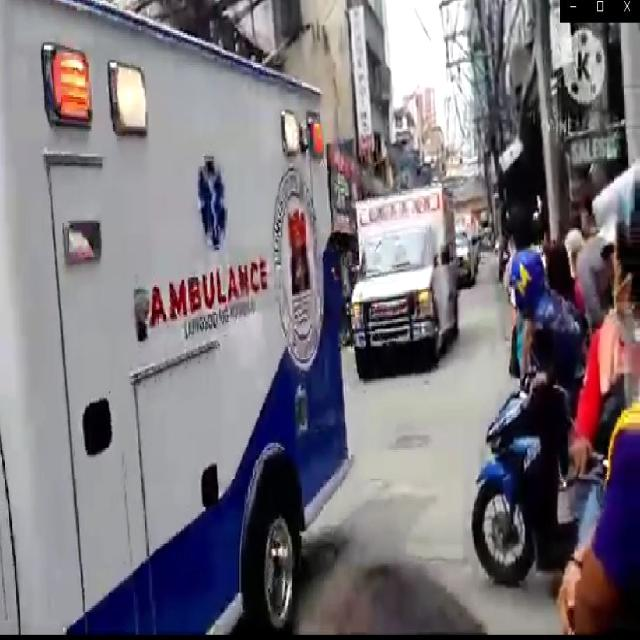emergency: (0, 0, 357, 640), (352, 192, 461, 379)
